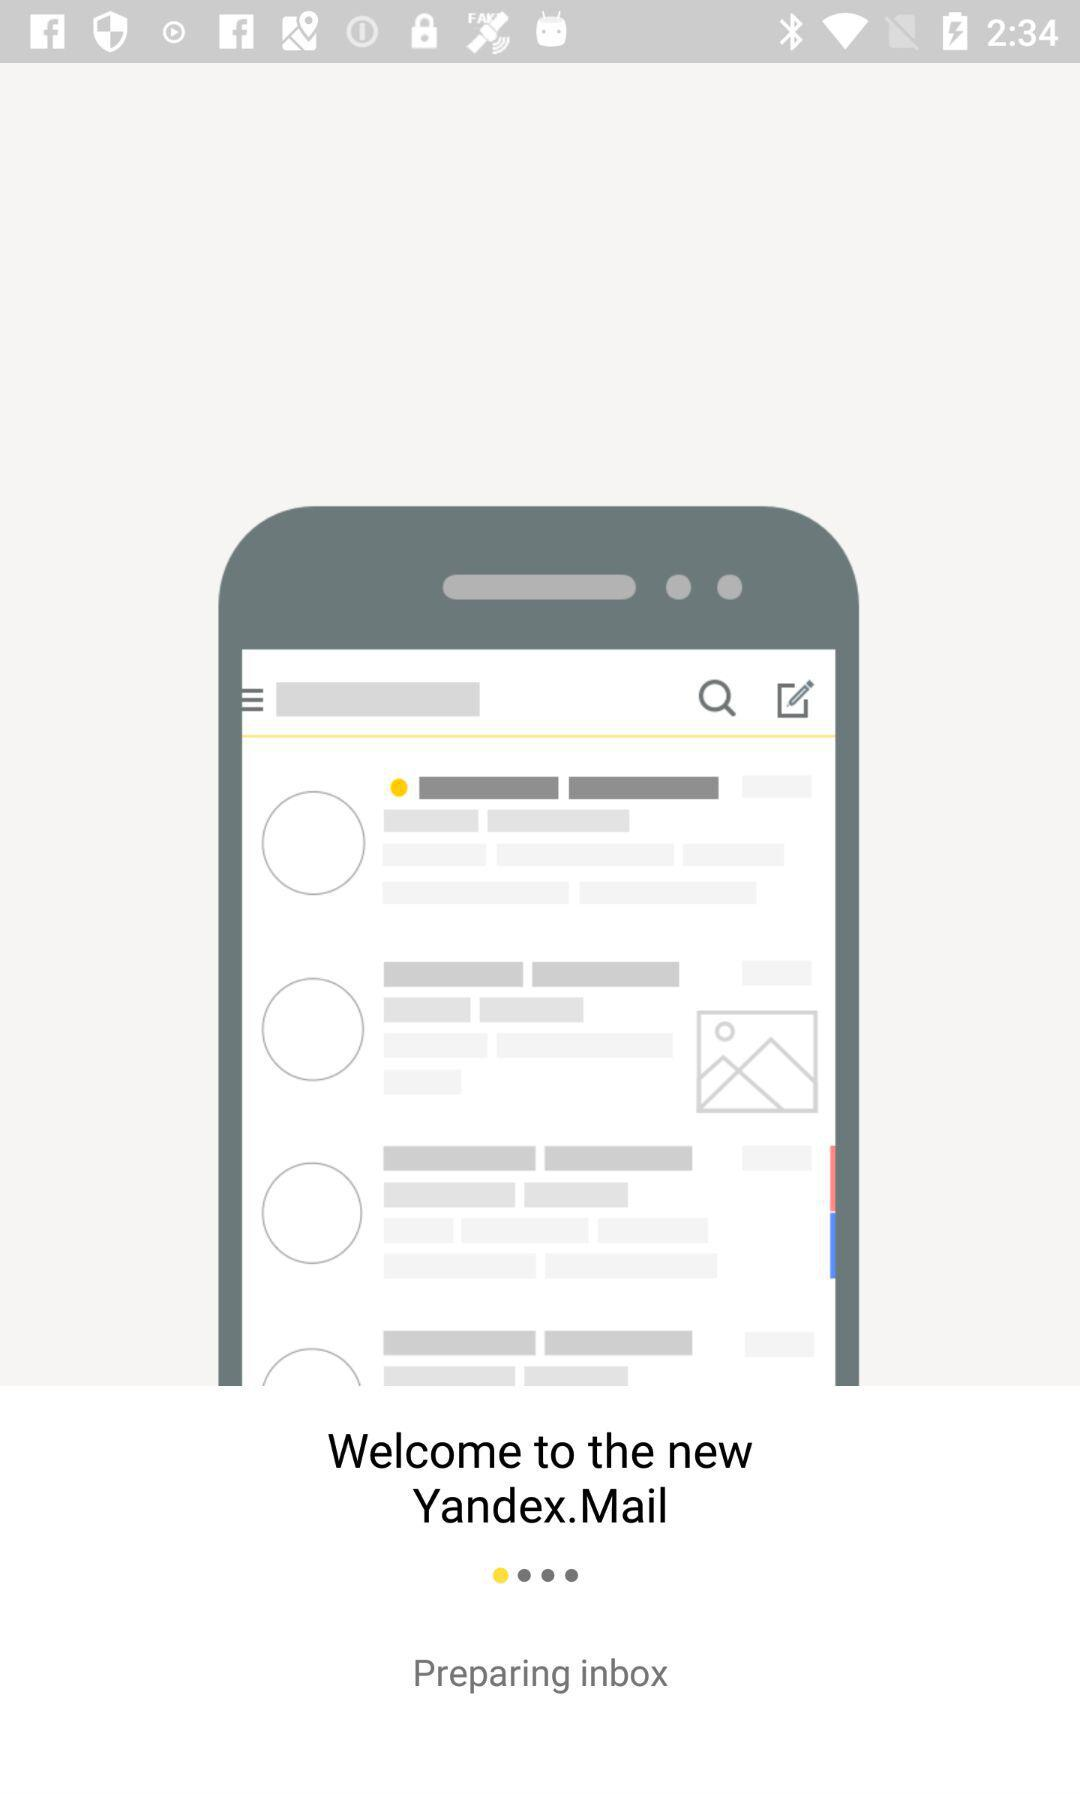Image: (215, 505, 862, 1388)
PageIndicator: (492, 1567, 580, 1584)
Text: (329, 1433, 755, 1526), (415, 1657, 669, 1695)
UpperTaskBar: (1, 1, 1080, 64)
